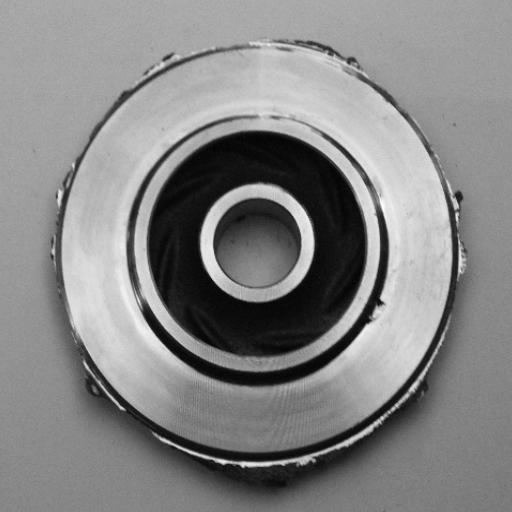casting_with_burr: (49, 34, 473, 487)
crack: (358, 298, 395, 330)
scratch: (243, 102, 324, 138)
